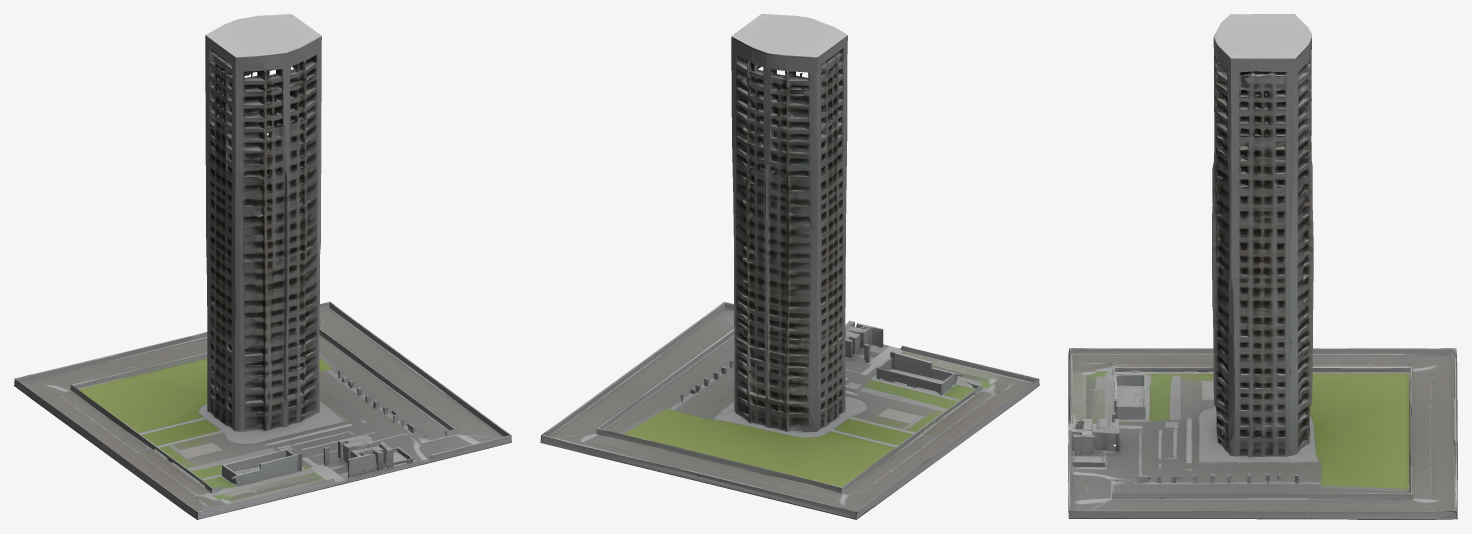
File: tower_glass_tex.glb
3 views of the same model, side by side, from view 1: azimuth 30°, elevation 25°; view 2: azimuth 150°, elevation 25°; view 3: azimuth 270°, elevation 25° (orthographic). The views are drawn at different scales.
Parts seen in each view (by area): view 1: tower_glass; view 2: tower_glass; view 3: tower_glass.
Part boxes in pixels (x1,y1,x2,y2): tower_glass: [14, 14, 511, 519]; tower_glass: [540, 14, 1039, 519]; tower_glass: [1068, 14, 1457, 519].
Size of the model in its own units: 0.8752 by 0.9999 by 0.8782.
Materials: 1 (1 with a texture image).
